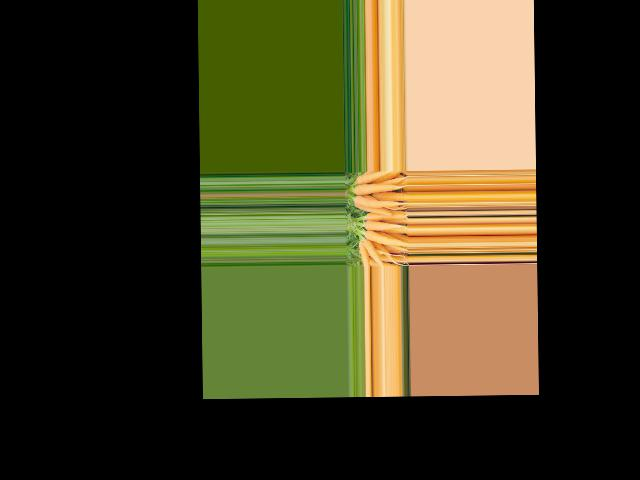carrot: (354, 180, 406, 196)
